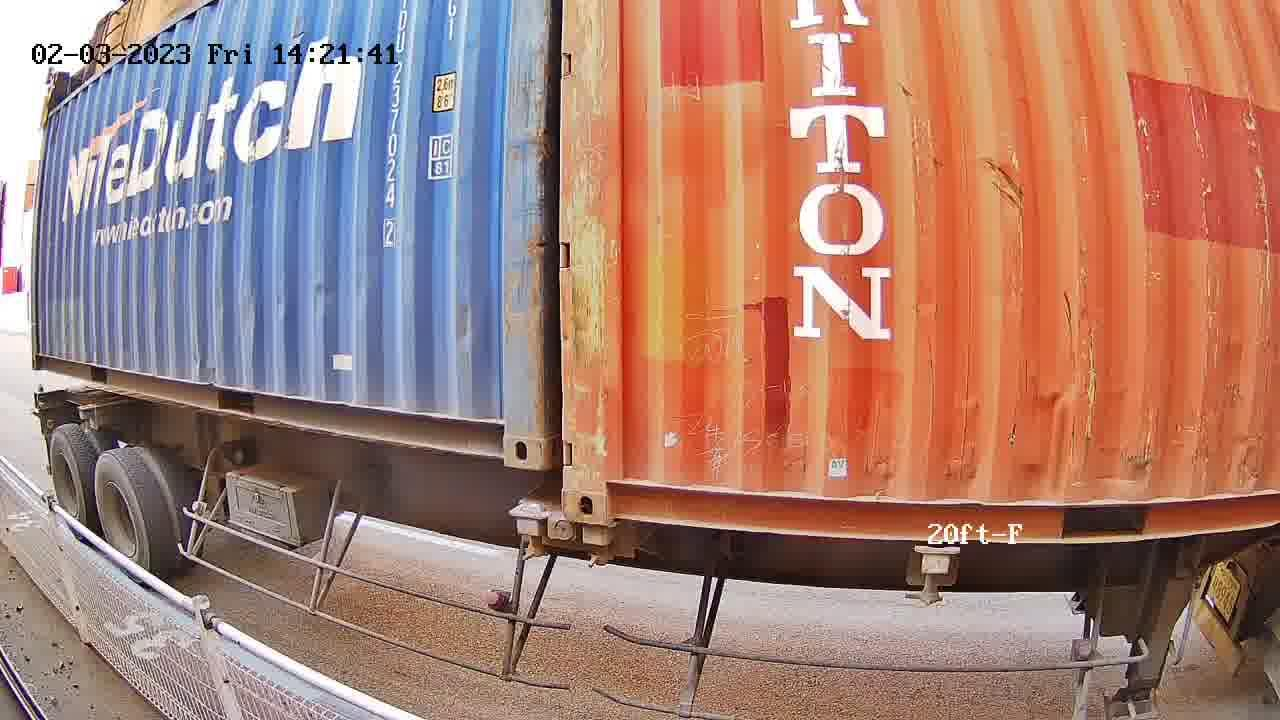Cone: (510, 497, 547, 560), (577, 523, 618, 567)
Hole_L: (564, 444, 644, 523)
Hole_R: (459, 383, 542, 471)
Tire: (94, 450, 156, 585), (50, 427, 92, 540)
